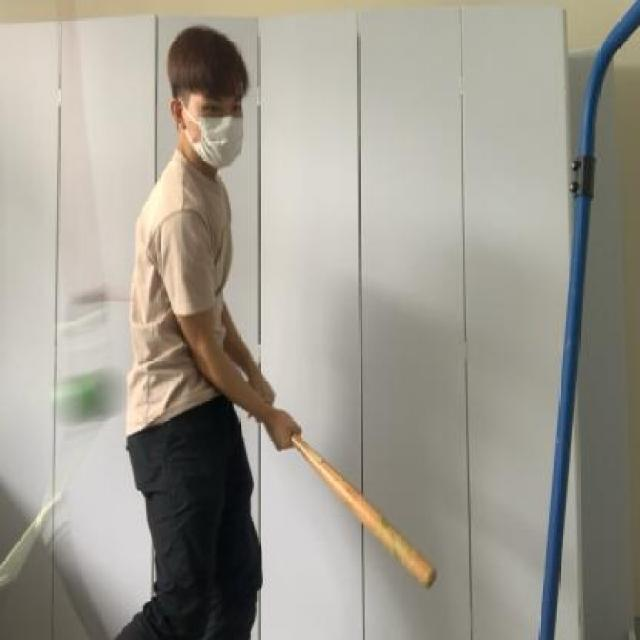baseball: (53, 361, 127, 428)
